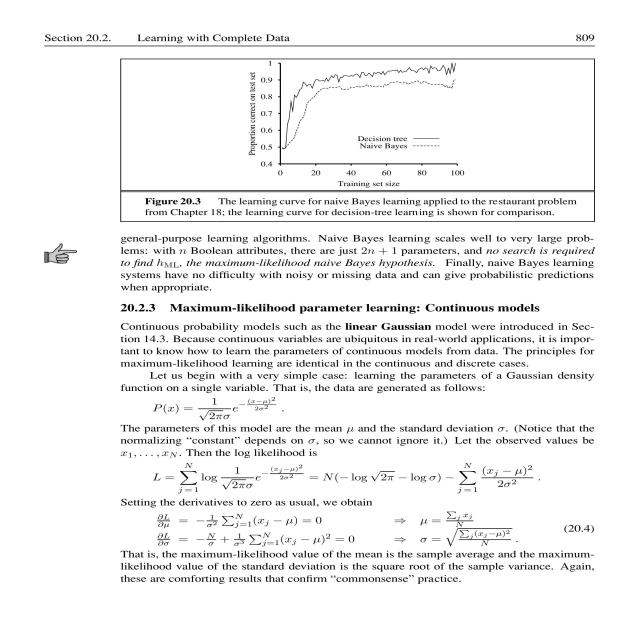diagram: (103, 58, 584, 226)
